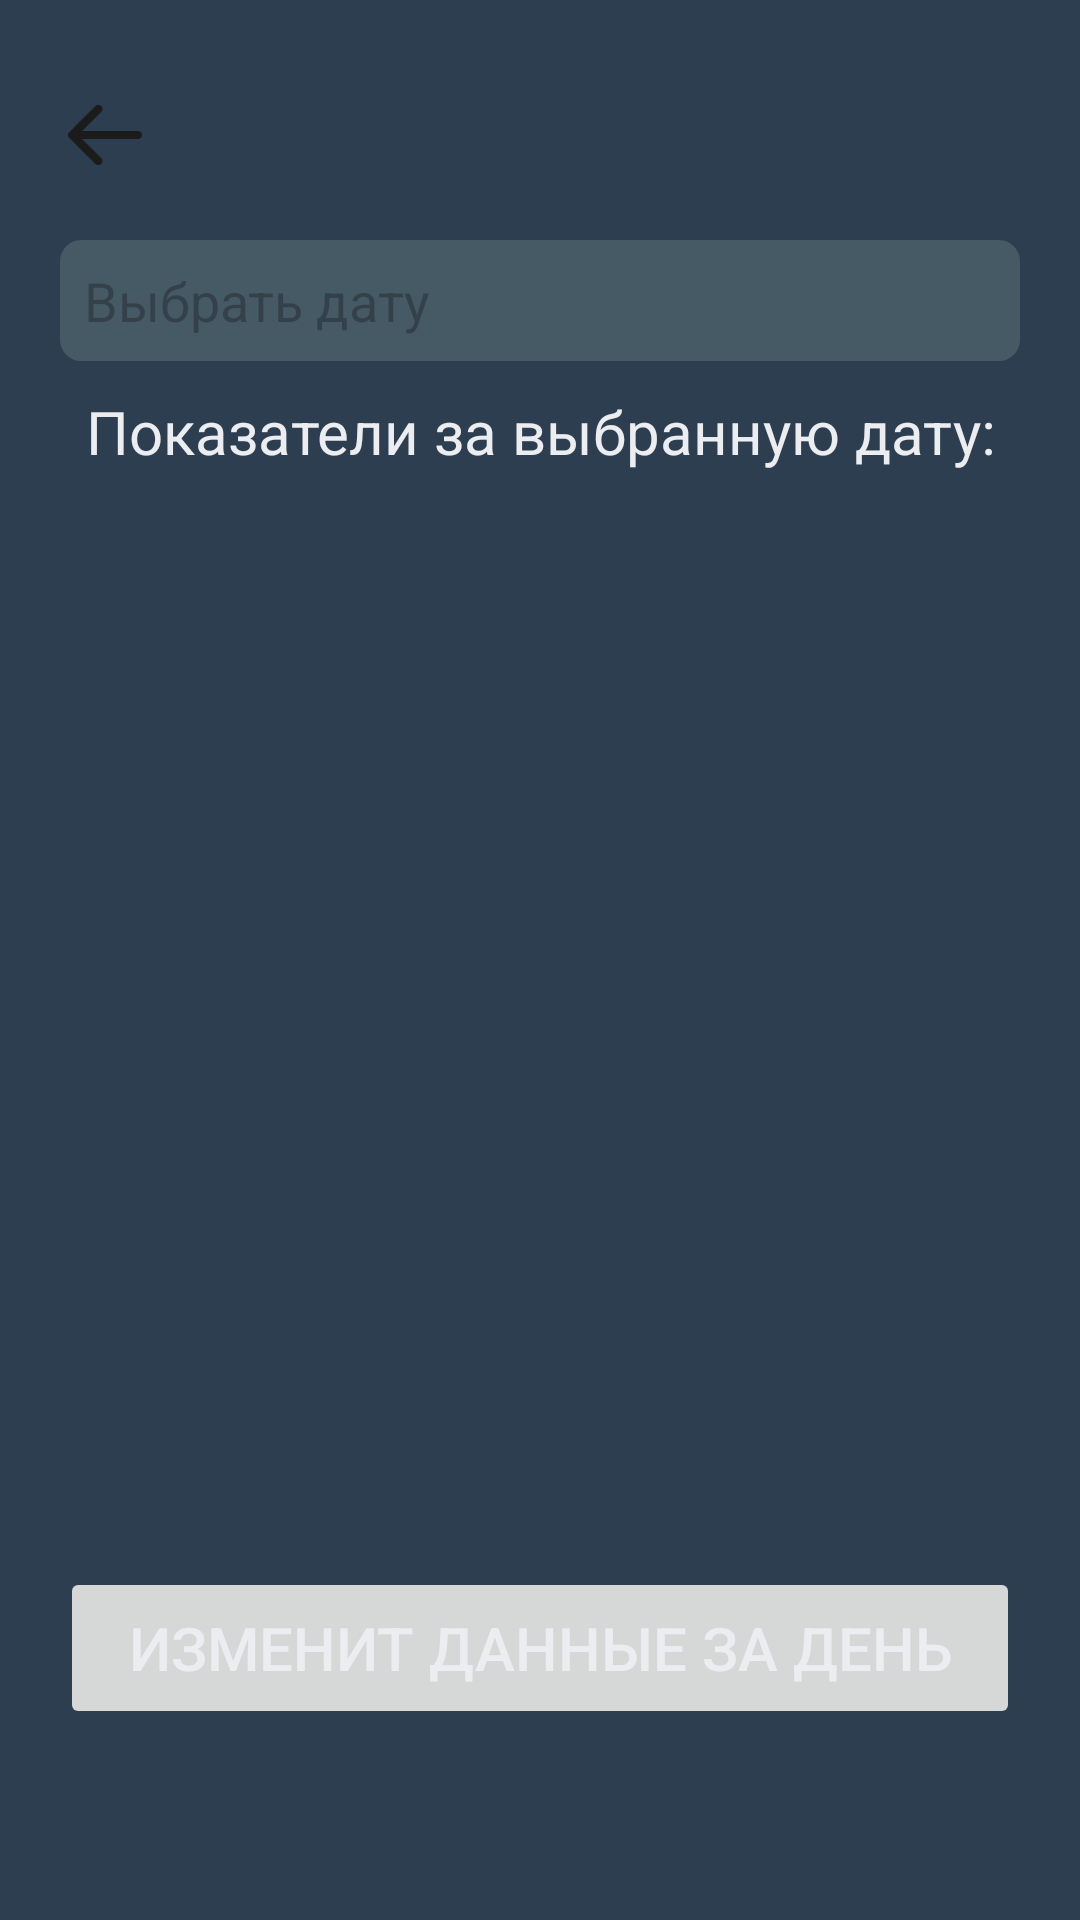

Icon bounding boxes for this 1080×1920 phone screenshot, format (x1, y1, x2, y2):
navbar left: (68, 105, 142, 165)
